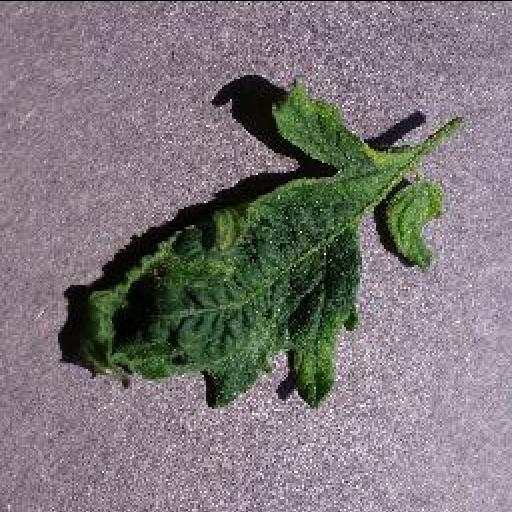Mosaic Virus: (74, 68, 444, 408)
